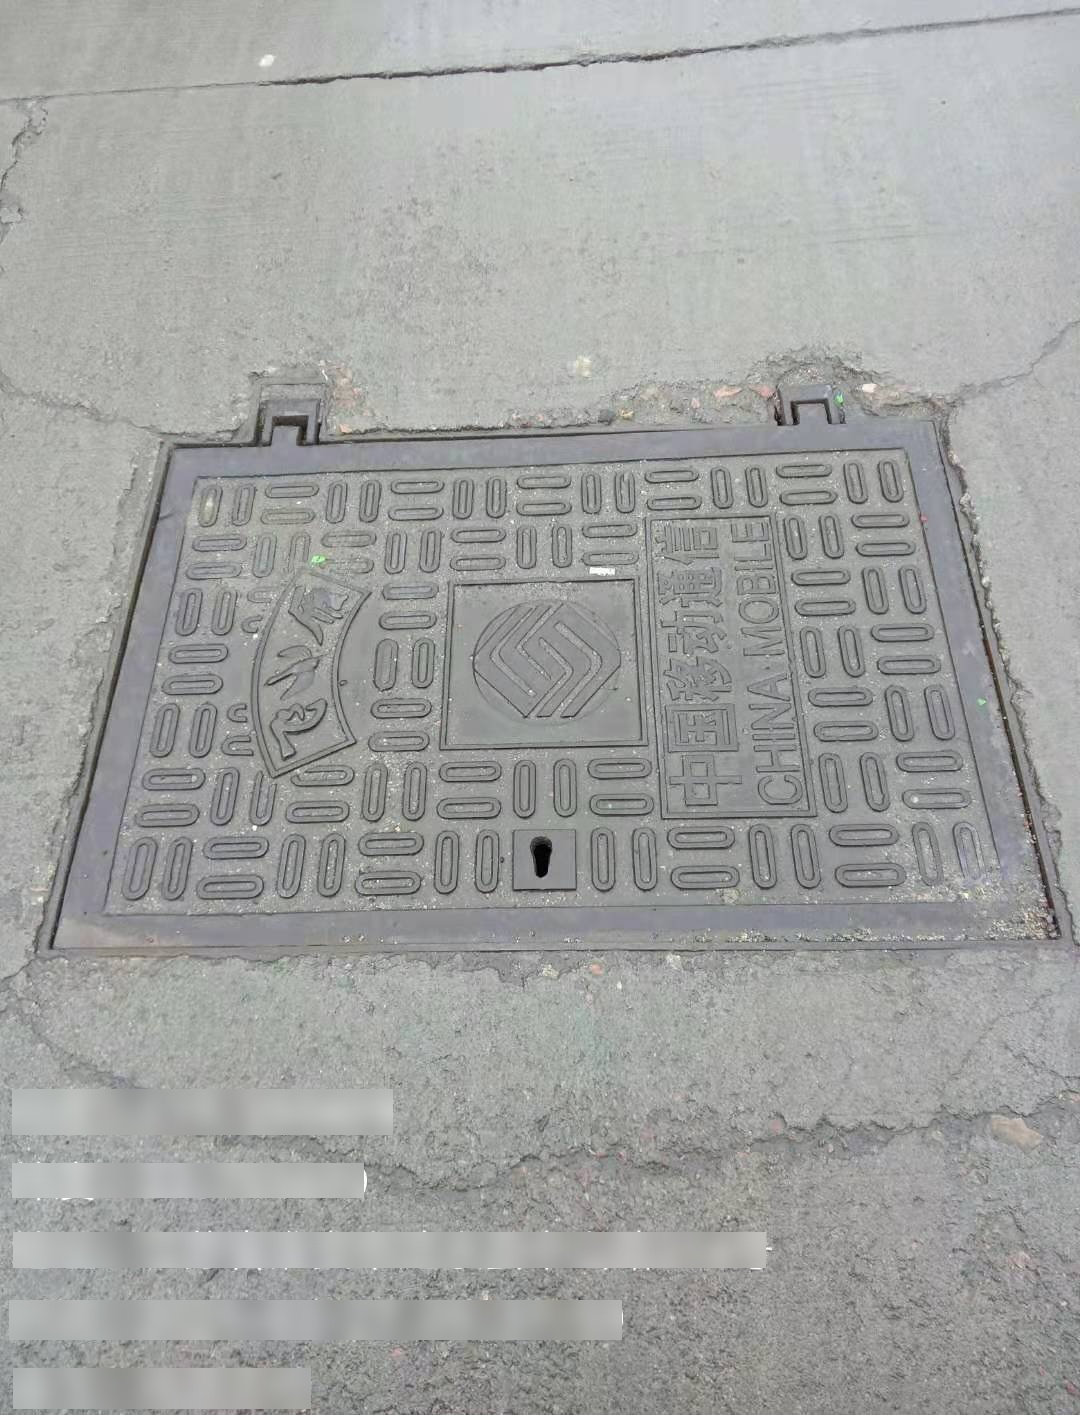good: (37, 380, 1080, 958)
